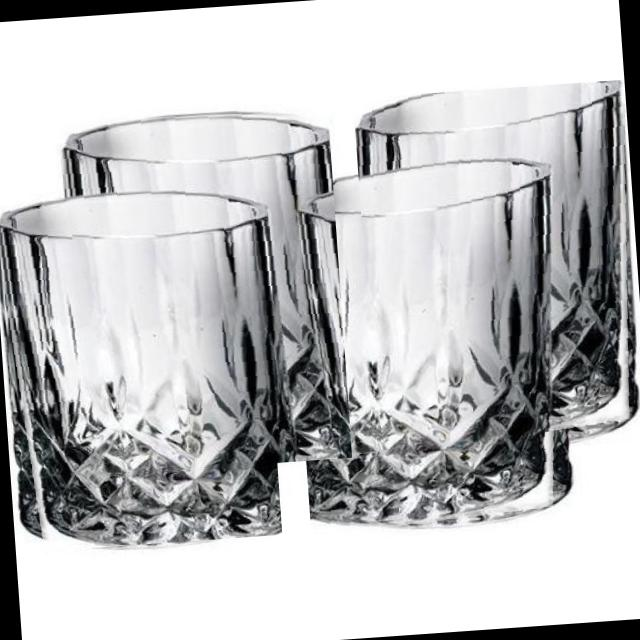Glass: (286, 160, 582, 537), (56, 102, 352, 476), (352, 79, 640, 458), (0, 183, 282, 553)
